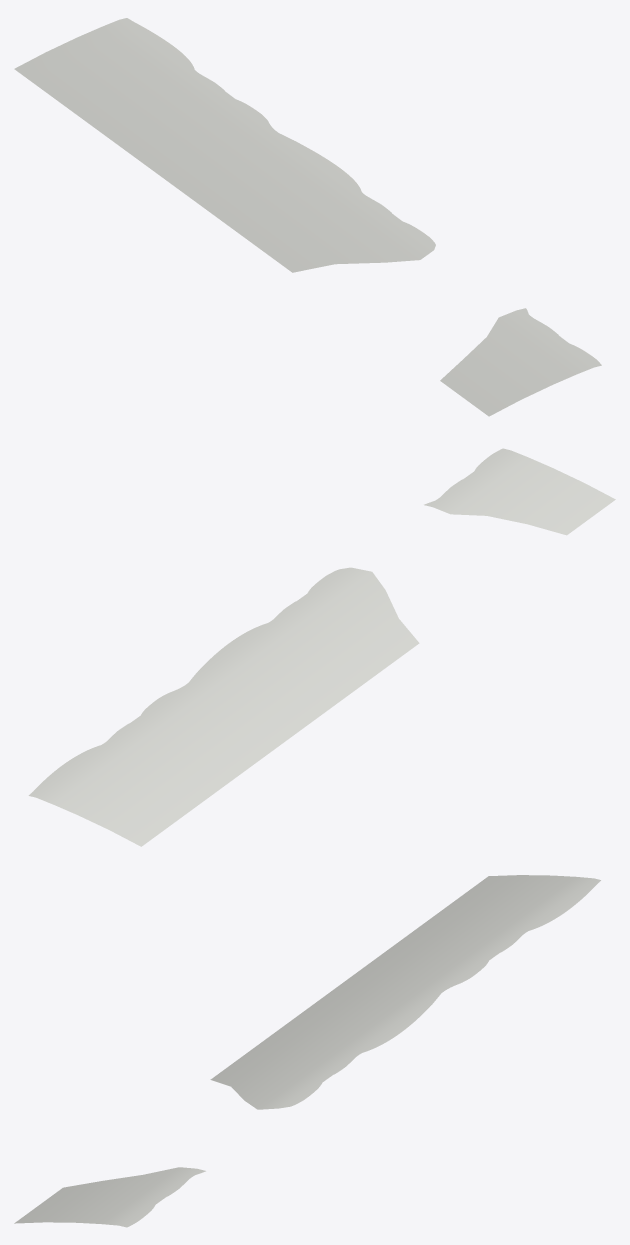
The model's file is Mesh_Adventure_SnowMountain_Ground_04_01.fbx.
3 renders of one model, top to bottom at view 1: azimuth 30°, elevation 25°; view 2: azimuth 150°, elevation 25°; view 3: azimuth 330°, elevation 25°, orthographic.
Parts seen in each view (by area): view 1: Mesh_Adventure_SnowMountain_Ground_04_01; view 2: Mesh_Adventure_SnowMountain_Ground_04_01; view 3: Mesh_Adventure_SnowMountain_Ground_04_01.
Boxes of the visible parts, x1,y1,x2,y2 form: Mesh_Adventure_SnowMountain_Ground_04_01: (14,18,601,416); Mesh_Adventure_SnowMountain_Ground_04_01: (28,448,615,846); Mesh_Adventure_SnowMountain_Ground_04_01: (14,875,600,1227).
Size of the model in its own units: 543 by 95.79 by 3500.
Materials: 1 (1 with a texture image).
